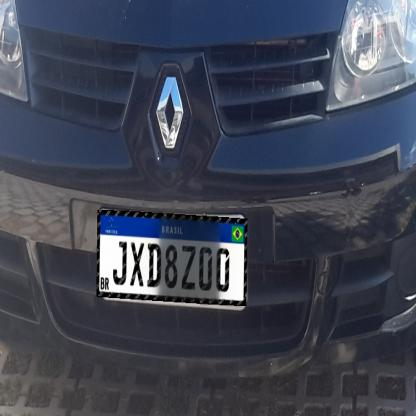PlacaM: (96, 210, 247, 306)
